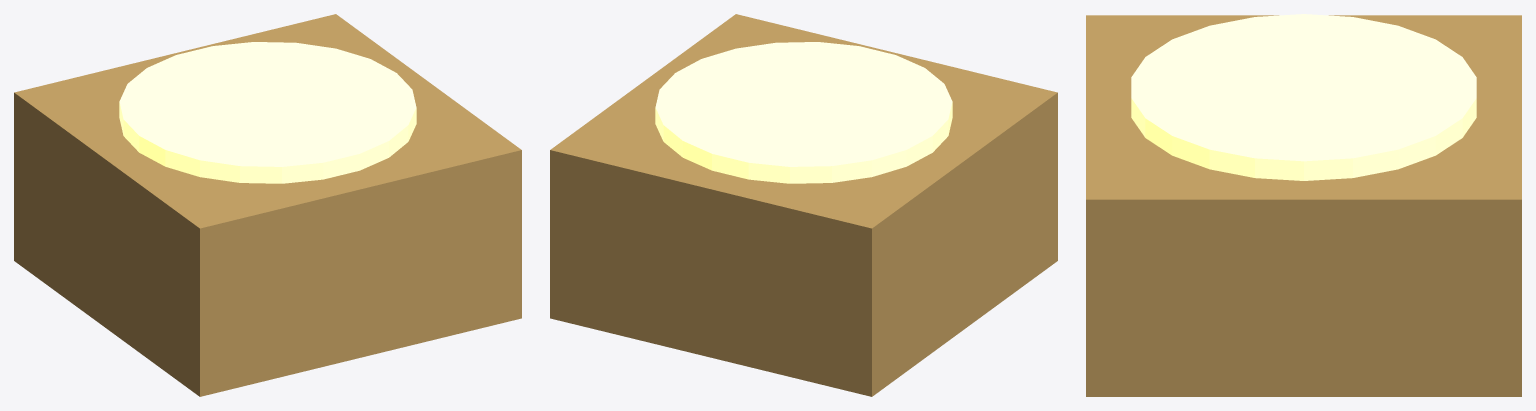
Rendered from TimedPulse_TopHalf.glb.
3 views of the same model, side by side, from view 1: azimuth 30°, elevation 25°; view 2: azimuth 150°, elevation 25°; view 3: azimuth 270°, elevation 25° (orthographic). The views are drawn at different scales.
Parts seen in each view (by area): view 1: TimedPulse_TopHalf_body, glow_disc.007; view 2: TimedPulse_TopHalf_body, glow_disc.007; view 3: TimedPulse_TopHalf_body, glow_disc.007.
Boxes of the visible parts, box(x1,y1,x2,y2) form: TimedPulse_TopHalf_body: box(14, 14, 521, 396); glow_disc.007: box(119, 42, 416, 183); TimedPulse_TopHalf_body: box(550, 14, 1057, 396); glow_disc.007: box(655, 42, 952, 183); TimedPulse_TopHalf_body: box(1086, 15, 1521, 396); glow_disc.007: box(1131, 14, 1476, 180).
Size of the model in its own units: 1 by 0.55 by 1.
